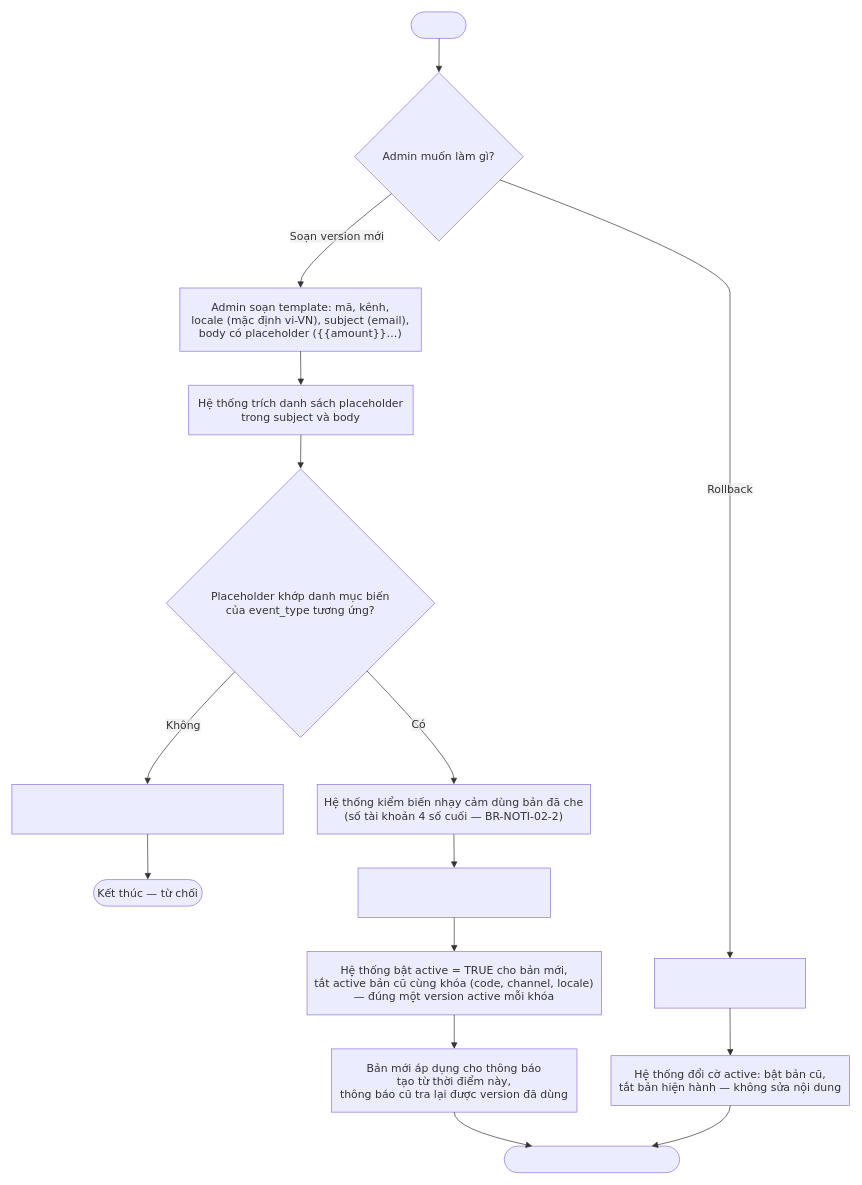
Image size: 862x1185. Some labels were removed from this diagram. The shapes that lost their labels are listed below. From the top down, each one's box as (x1, y1, x2, y2) in pixels, then its label:
(410, 11, 466, 38): Bắt đầu
(11, 784, 283, 834): Hệ thống từ chối lưu — placeholder không tồn tại trong payload chuẩn
(357, 867, 550, 918): Hệ thống ghi VERSION mới, version cũ giữ nguyên nội dung
(654, 958, 805, 1008): Admin chọn version cũ cần kích hoạt lại
(504, 1145, 680, 1173): Kết thúc — template có hiệu lực
